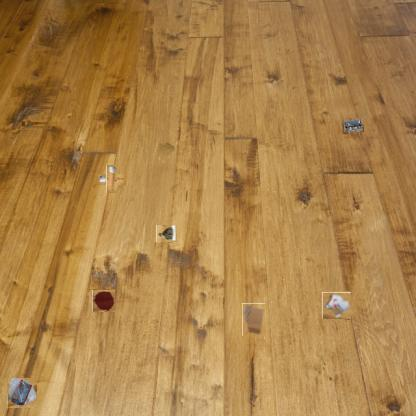dirty: (7, 378, 37, 408), (322, 292, 351, 319), (242, 303, 265, 336), (102, 170, 122, 189), (156, 224, 177, 242), (344, 118, 364, 132)
liquid: (93, 289, 115, 312), (154, 141, 176, 163)
